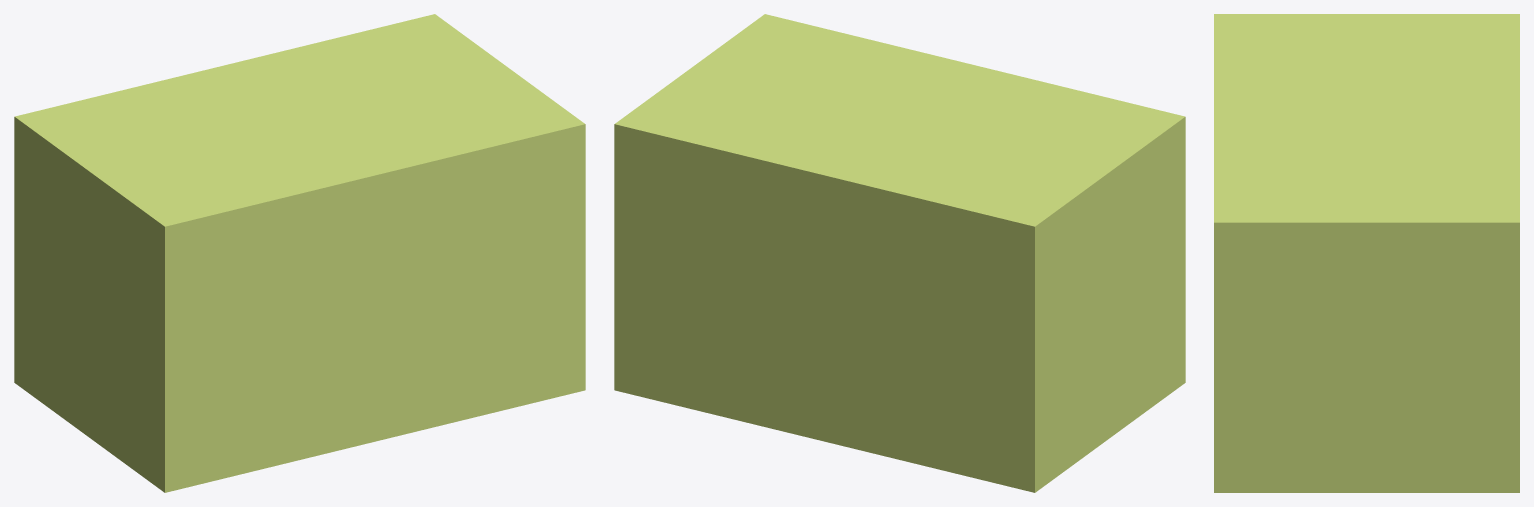
File: Final-Tunnel011.fbx
3 renders of one model, left to right at view 1: azimuth 30°, elevation 25°; view 2: azimuth 150°, elevation 25°; view 3: azimuth 270°, elevation 25°, orthographic.
Parts seen in each view (by area): view 1: BOXVOL; view 2: BOXVOL; view 3: BOXVOL.
Boxes of the visible parts, box(x1,y1,x2,y2) form: BOXVOL: box(14, 14, 585, 492); BOXVOL: box(614, 14, 1185, 492); BOXVOL: box(1214, 14, 1519, 492).
Size of the model in its own units: 2231 by 1350 by 1383.
